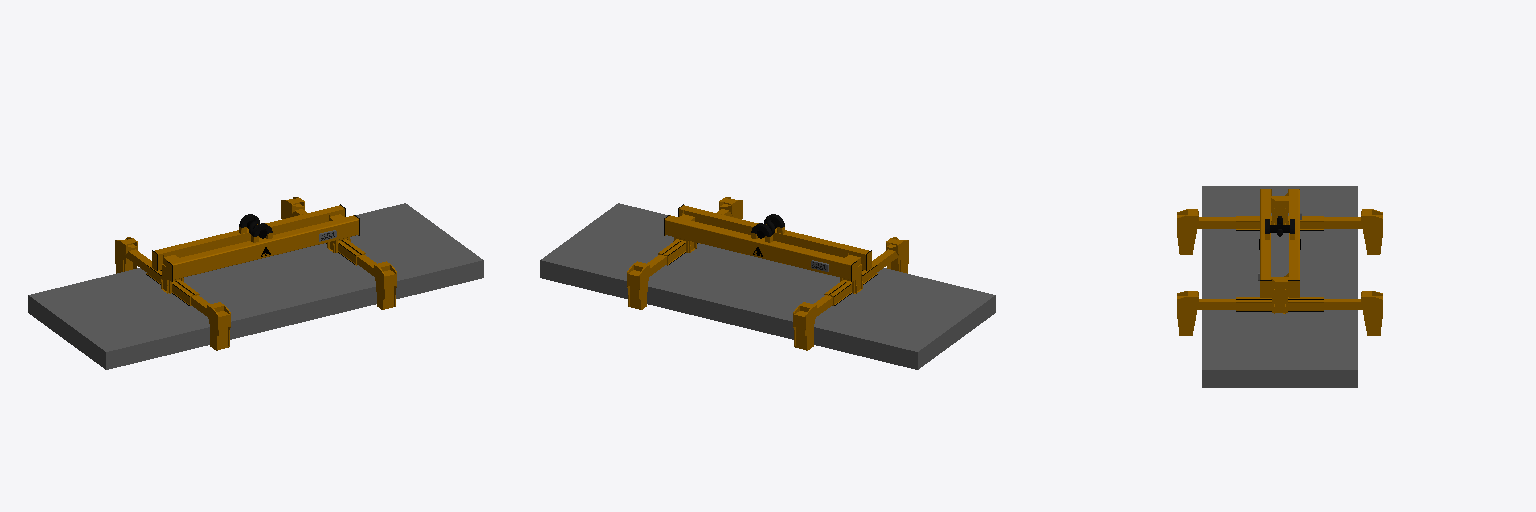
File: IngotGrab1.obj
3 renders of one model, left to right at view 1: azimuth 30°, elevation 25°; view 2: azimuth 150°, elevation 25°; view 3: azimuth 270°, elevation 25°, orthographic.
Visible parts, largest first — view 1: IngotPiece_IngotPiece.1, soporte_horizontal_Cube.001, arm.SB_Cube.2275, arm.SA_Cube.2272, arm.NB_Cube.2276, viga.izquierda_Cube.2266; view 2: IngotPiece_IngotPiece.1, soporte_horizontal_Cube.001, arm.NB_Cube.2276, arm.NA_Cube.2277, arm.SB_Cube.2275, viga.izquierda_Cube.2266; view 3: IngotPiece_IngotPiece.1, soporte_horizontal_Cube.001, arm.NB_Cube.2276, arm.SB_Cube.2275, arm.NA_Cube.2277, arm.SA_Cube.2272, viga.derecha_Cube.2270, viga.izquierda_Cube.2266.
Boxes of the visible parts, x1=… form: IngotPiece_IngotPiece.1: x1=28, y1=203, x2=483, y2=369; soporte_horizontal_Cube.001: x1=152, y1=204, x2=359, y2=281; arm.SB_Cube.2275: x1=191, y1=295, x2=230, y2=350; arm.SA_Cube.2272: x1=357, y1=255, x2=396, y2=309; arm.NB_Cube.2276: x1=115, y1=237, x2=151, y2=273; viga.izquierda_Cube.2266: x1=146, y1=263, x2=199, y2=305; IngotPiece_IngotPiece.1: x1=540, y1=203, x2=995, y2=369; soporte_horizontal_Cube.001: x1=664, y1=204, x2=871, y2=281; arm.NB_Cube.2276: x1=793, y1=295, x2=832, y2=350; arm.NA_Cube.2277: x1=627, y1=255, x2=666, y2=309; arm.SB_Cube.2275: x1=872, y1=237, x2=908, y2=273; viga.izquierda_Cube.2266: x1=824, y1=263, x2=877, y2=305; IngotPiece_IngotPiece.1: x1=1202, y1=186, x2=1357, y2=387; soporte_horizontal_Cube.001: x1=1260, y1=189, x2=1299, y2=297; arm.NB_Cube.2276: x1=1324, y1=209, x2=1382, y2=254; arm.SB_Cube.2275: x1=1177, y1=209, x2=1235, y2=254; arm.NA_Cube.2277: x1=1324, y1=291, x2=1382, y2=335; arm.SA_Cube.2272: x1=1177, y1=291, x2=1235, y2=335; viga.derecha_Cube.2270: x1=1236, y1=297, x2=1323, y2=311; viga.izquierda_Cube.2266: x1=1236, y1=216, x2=1323, y2=230.
Bounding box in the file's own units: 3.12 × 0.6252 × 1.48.